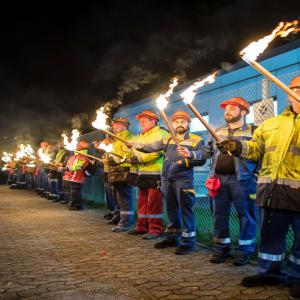red: (219, 97, 252, 124), (170, 111, 194, 135), (286, 76, 300, 111), (139, 111, 161, 131), (113, 118, 131, 135), (77, 142, 92, 152), (48, 145, 58, 155), (59, 140, 67, 150), (41, 143, 49, 150)
